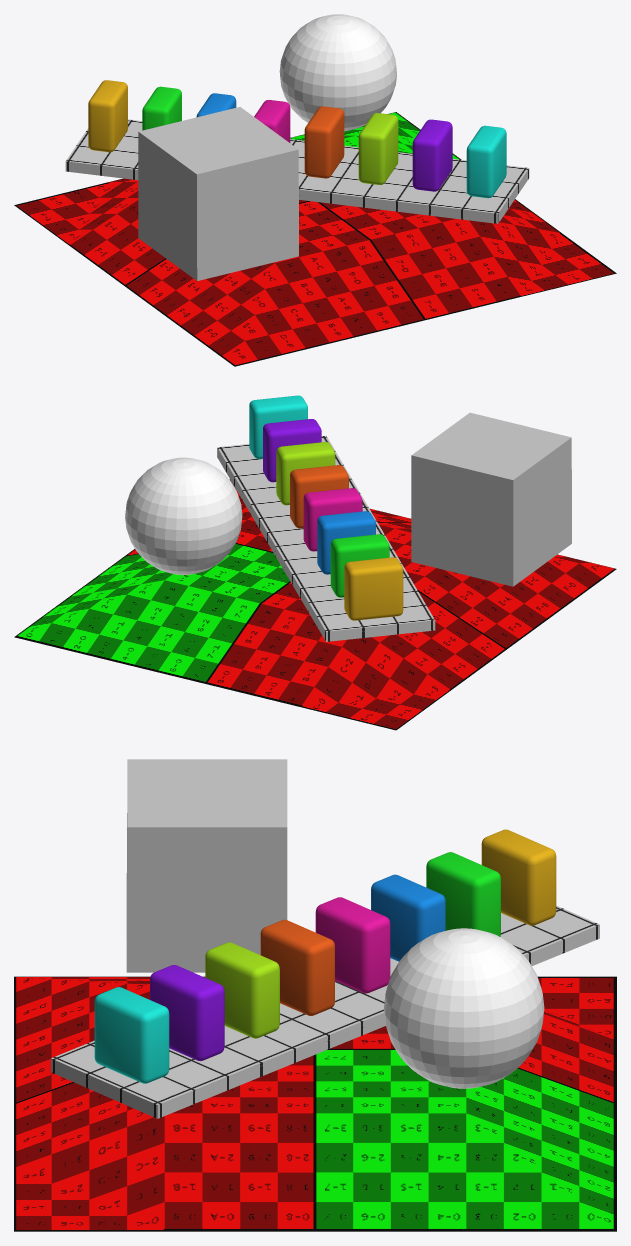
Rendered from multiple_morph_target_meshes.gltf.
3 views of the same model, one above another, from view 1: azimuth 30°, elevation 25°; view 2: azimuth 150°, elevation 25°; view 3: azimuth 270°, elevation 25° (orthographic). The views are drawn at different scales.
Parts seen in each view (by area): view 1: ルートパート, Main, AnimatedMorphCube, AnimatedMorphSphere; view 2: ルートパート, Main, AnimatedMorphCube, AnimatedMorphSphere; view 3: ルートパート, Main, AnimatedMorphCube, AnimatedMorphSphere.
Part boxes in pixels (x1,y1,x2,y2): ルートパート: (14, 112, 616, 366); Main: (65, 80, 529, 223); AnimatedMorphCube: (138, 107, 298, 280); AnimatedMorphSphere: (279, 14, 396, 131); ルートパート: (14, 479, 616, 730); Main: (217, 395, 435, 641); AnimatedMorphCube: (411, 412, 571, 586); AnimatedMorphSphere: (125, 457, 242, 574); ルートパート: (14, 976, 616, 1231); Main: (51, 829, 599, 1118); AnimatedMorphCube: (126, 759, 287, 972); AnimatedMorphSphere: (384, 928, 544, 1088).
Size of the model in its own units: 7.51 by 3.02 by 7.51.
6 materials, 4 textured.
